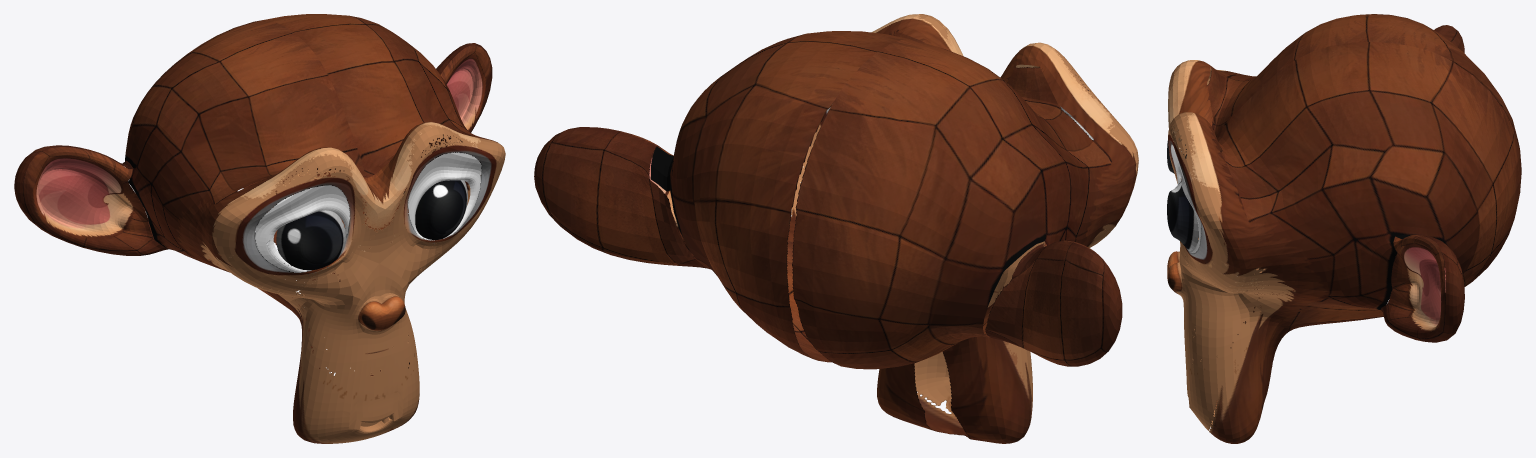
Rendered from monkey_open.obj.
3 views of the same model, side by side, from view 1: azimuth 30°, elevation 25°; view 2: azimuth 150°, elevation 25°; view 3: azimuth 270°, elevation 25° (orthographic). The views are drawn at different scales.
Visible parts, largest first — view 1: Suzanne; view 2: Suzanne; view 3: Suzanne.
Boxes of the visible parts, x1=… form: Suzanne: x1=14, y1=14, x2=505, y2=443; Suzanne: x1=534, y1=14, x2=1138, y2=443; Suzanne: x1=1167, y1=14, x2=1521, y2=443.
Size of the model in its own units: 14.85 by 10.69 by 8.95.
1 material, 1 textured.
